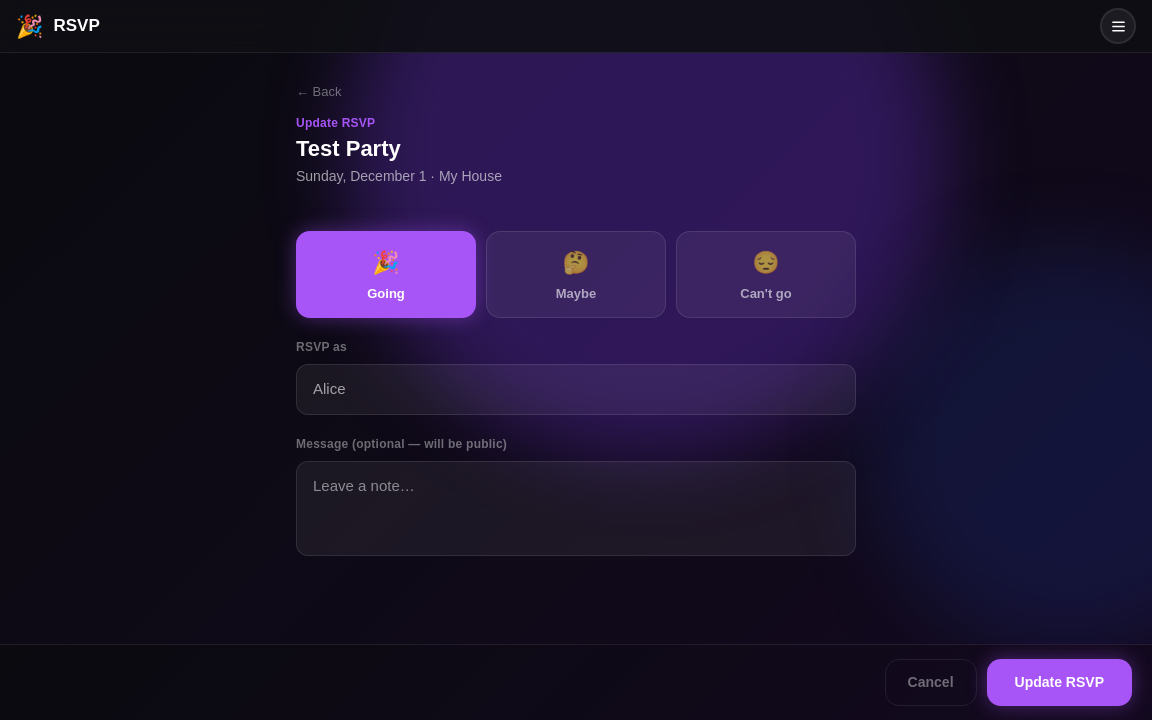
Test case: RsvpFlow — edit mode › shows 'RSVP updated!' on successful update
Click the button "Update RSVP".
click(1059, 682)  # box [986,659,1132,706]
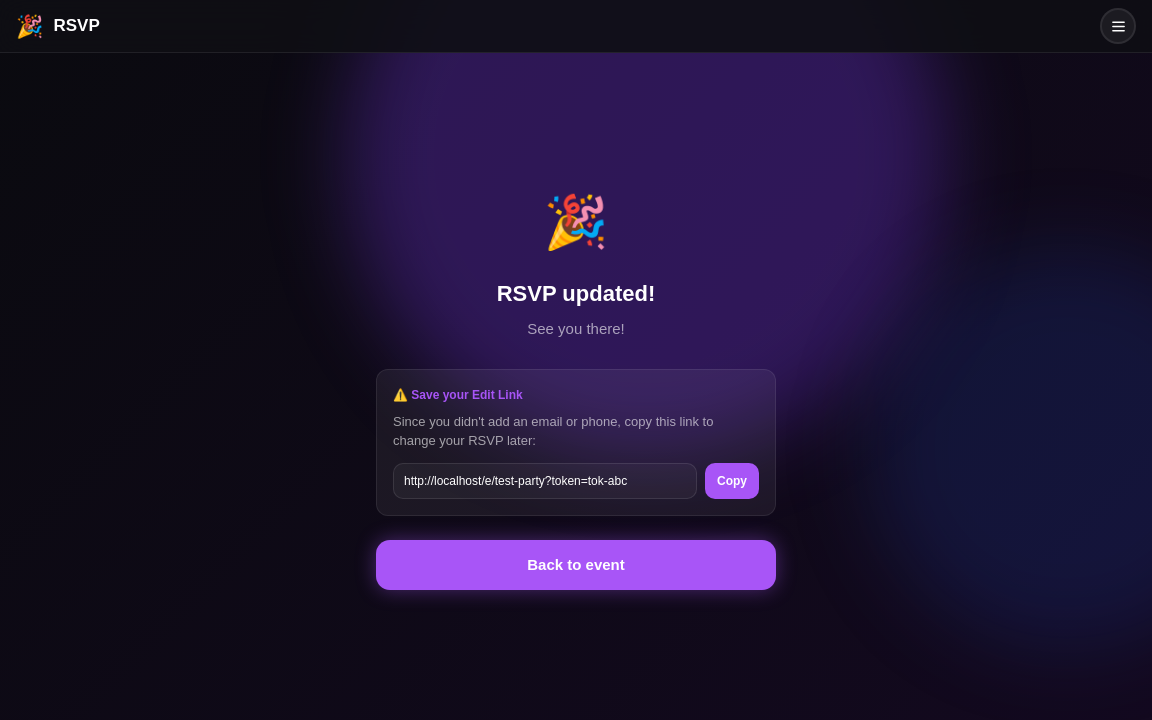
Result: the heading "RSVP updated!" is shown at [497,281,655,306]
